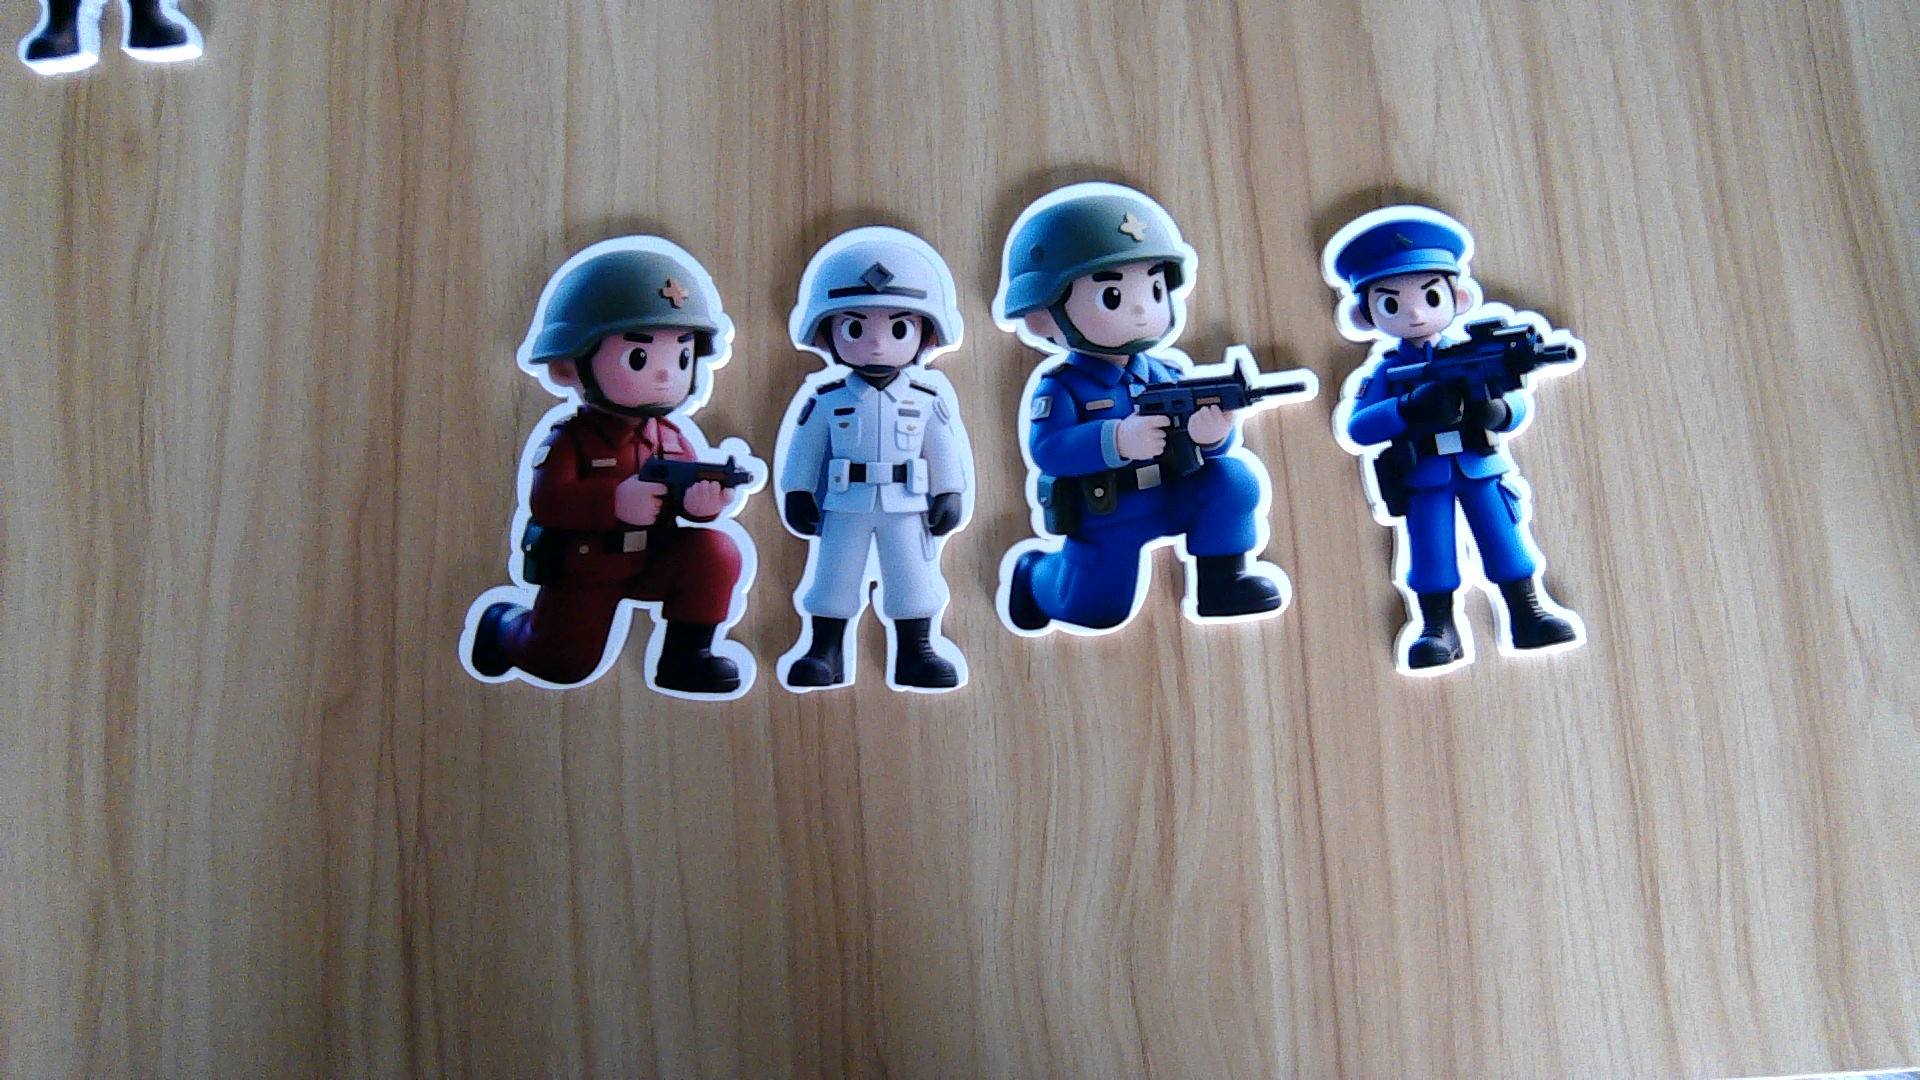人质: (770, 363, 980, 699)
敌人1: (448, 407, 770, 717)
敌人2: (992, 357, 1307, 642), (1331, 339, 1598, 666)
